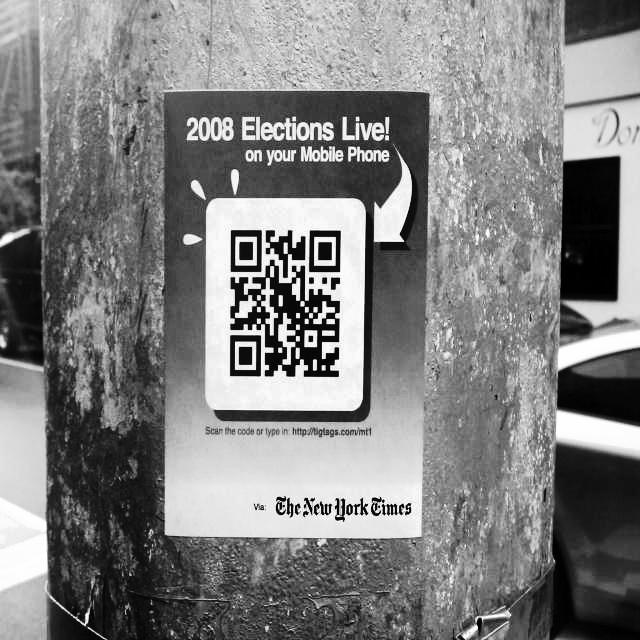qr_code: (231, 230, 341, 377)
